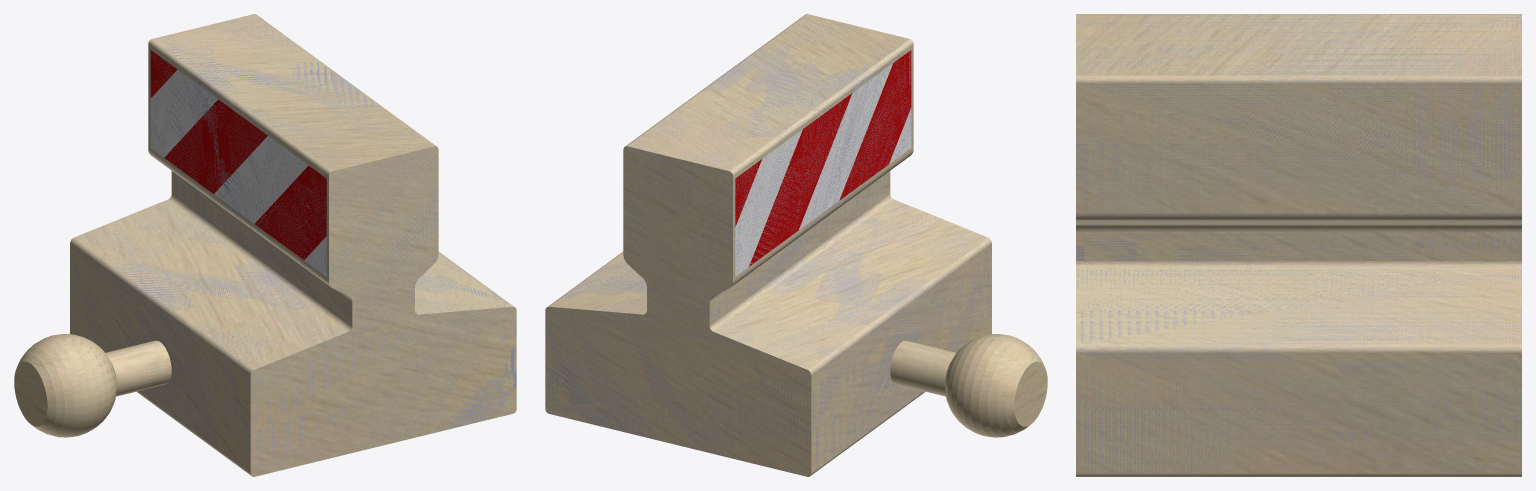
The picture shows the model from 3 angles, left to right: view 1: azimuth 30°, elevation 25°; view 2: azimuth 150°, elevation 25°; view 3: azimuth 270°, elevation 25°; orthographic projection. The views are drawn at different scales.
Parts seen in each view (by area): view 1: SketchUp (×6), _3d_peg; view 2: SketchUp (×6), _3d_peg; view 3: SketchUp.
Part boxes in pixels (x1,y1,x2,y2): SketchUp (×6): (70, 14, 516, 476); _3d_peg: (14, 334, 171, 437); SketchUp (×6): (545, 14, 991, 476); _3d_peg: (890, 334, 1047, 437); SketchUp: (1076, 14, 1521, 476).
Size of the model in its own units: 1.99 by 1.57 by 1.38.
